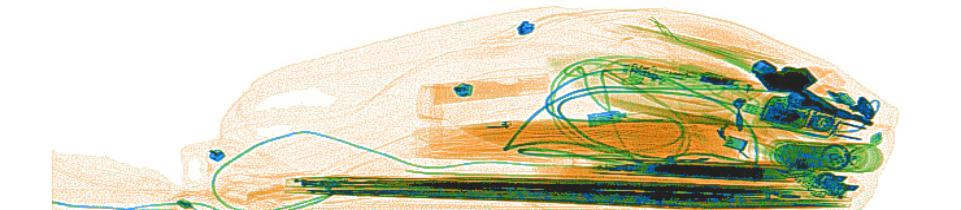battery: (774, 141, 840, 167)
